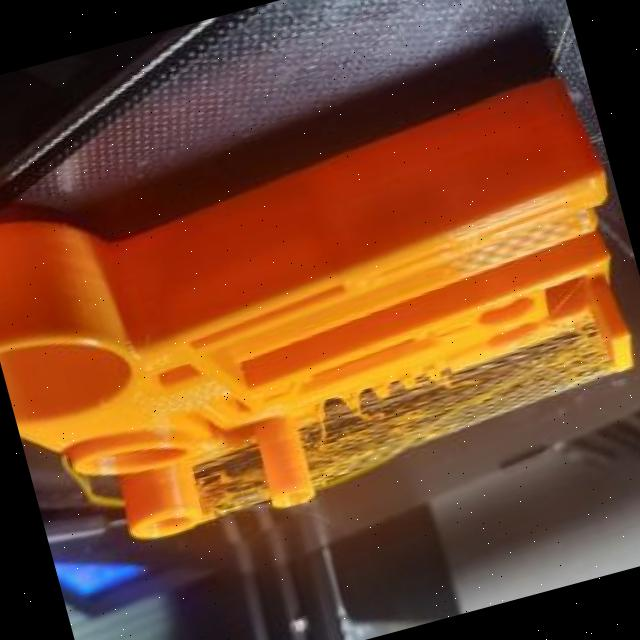stringing: (440, 322, 618, 421), (286, 388, 456, 486), (182, 448, 282, 523)
